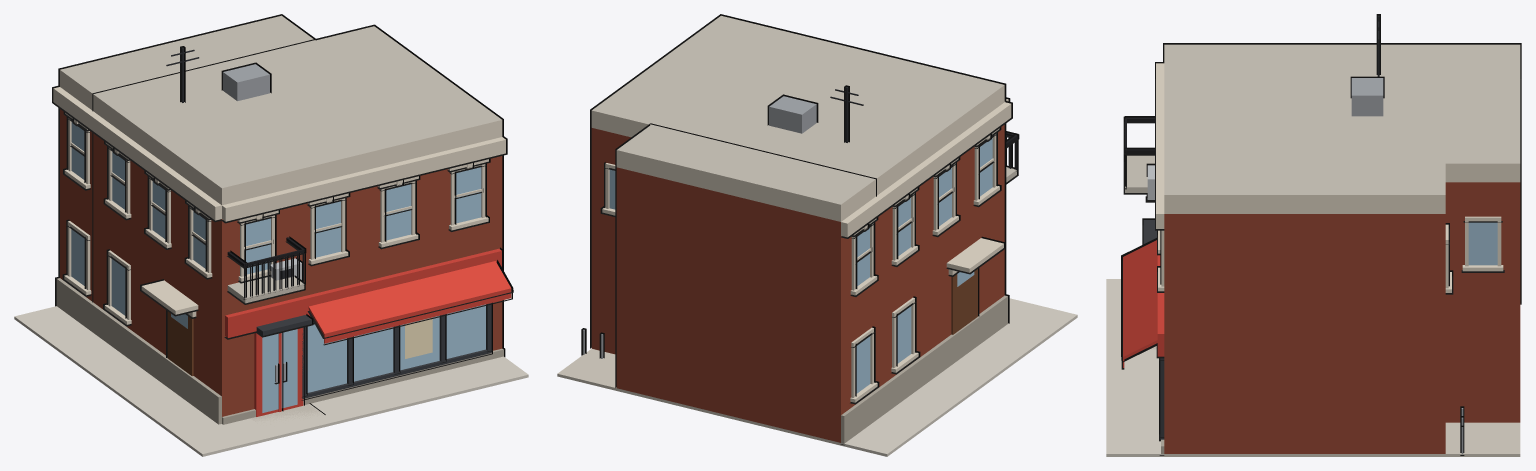
File: Blok_kose_2k_2.fbx
3 renders of one model, left to right at view 1: azimuth 30°, elevation 25°; view 2: azimuth 150°, elevation 25°; view 3: azimuth 270°, elevation 25°, orthographic. The views are drawn at different scales.
Visible parts, largest first — view 1: Blok_kose_2k_2; view 2: Blok_kose_2k_2; view 3: Blok_kose_2k_2.
Part boxes in pixels (left/top/right/bottom): Blok_kose_2k_2: left=14, top=14, right=528, bottom=456; Blok_kose_2k_2: left=557, top=14, right=1077, bottom=456; Blok_kose_2k_2: left=1106, top=14, right=1521, bottom=456.
Bounding box in the file's own units: 10.05 × 8.68 × 10.03.
